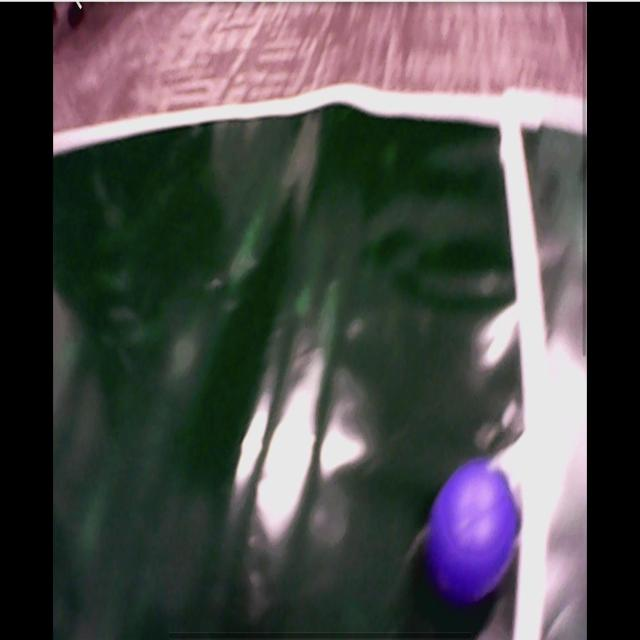ball: (429, 460, 519, 598)
